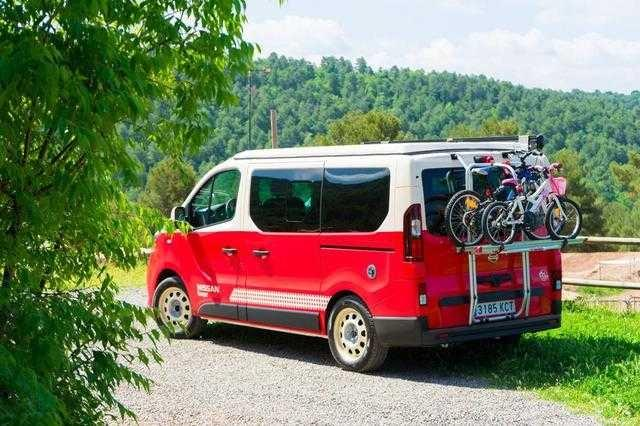car: (141, 133, 581, 374)
